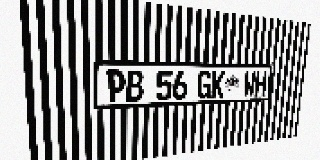5: (156, 70, 173, 101)
6: (172, 71, 188, 100)
B: (126, 70, 143, 102)
G: (197, 71, 212, 99)
H: (254, 71, 267, 96)
K: (211, 71, 225, 98)
P: (106, 70, 125, 103)
W: (243, 71, 256, 97)
